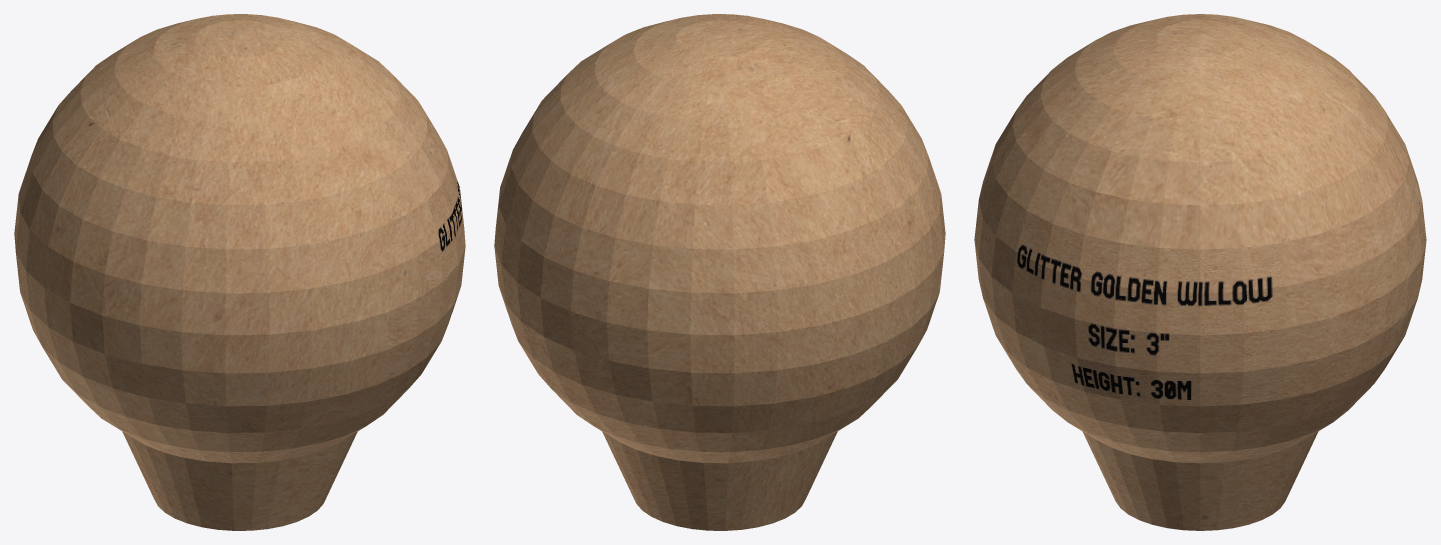
Rendered from GoldenGlitterWillow 1.fbx.
3 views of the same model, side by side, from view 1: azimuth 30°, elevation 25°; view 2: azimuth 150°, elevation 25°; view 3: azimuth 270°, elevation 25° (orthographic).
Parts seen in each view (by area): view 1: Sphere; view 2: Sphere; view 3: Sphere.
Boxes of the visible parts, x1,y1,x2,y2 form: Sphere: (14, 14, 465, 530); Sphere: (494, 14, 945, 530); Sphere: (974, 14, 1426, 530).
Bounding box in the file's own units: 14 × 16.23 × 14.
